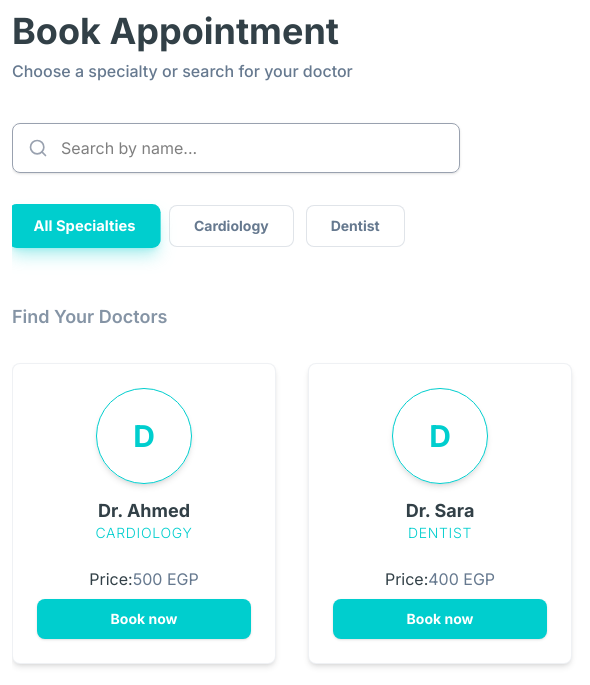
Scenario: BookAppointmentPage › should filter doctors by name when typing in search input
Step 1. Type "Sara" into the field with placeholder "Search by name..." → [236, 148], box top-left (12, 123), bottom-right (460, 173)
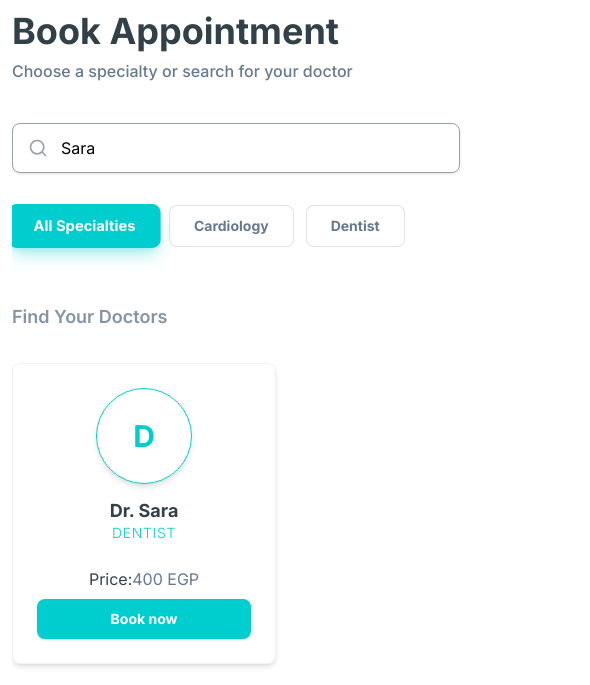
Expected: the heading "Dr. Sara" is shown, top-left (110, 500), bottom-right (178, 522)
Now the heading "Dr. Ahmed" is gone
